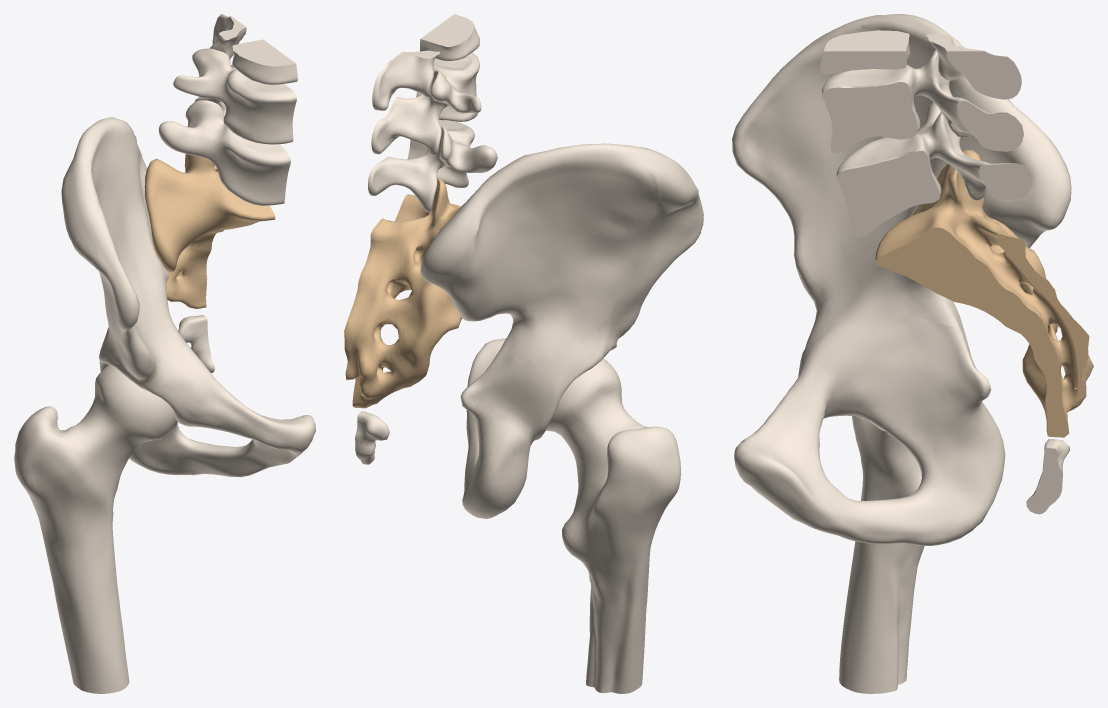
The model's file is open3d-inguinal-canal-skeletal-01.glb.
The picture shows the model from 3 angles, left to right: view 1: azimuth 30°, elevation 25°; view 2: azimuth 150°, elevation 25°; view 3: azimuth 270°, elevation 25°; orthographic projection. The views are drawn at different scales.
Visible parts, largest first — view 1: O3D_ce4f6def83cb31, O3D_1879cf3a3f5bd7, O3D_308d1ef49a43fa, O3D_312571b6107a85, O3D_7b38526d7bd437, O3D_8cefbc10a52f4f, O3D_466b33d84c1aa0, O3D_f54bb8582221e2; view 2: O3D_312571b6107a85, O3D_ce4f6def83cb31, O3D_1879cf3a3f5bd7, O3D_308d1ef49a43fa, O3D_8cefbc10a52f4f, O3D_7b38526d7bd437, O3D_466b33d84c1aa0, O3D_f54bb8582221e2; view 3: O3D_1879cf3a3f5bd7, O3D_308d1ef49a43fa, O3D_312571b6107a85, O3D_ce4f6def83cb31, O3D_7b38526d7bd437, O3D_8cefbc10a52f4f, O3D_466b33d84c1aa0, O3D_f54bb8582221e2.
Boxes of the visible parts, x1,y1,x2,y2 form: O3D_ce4f6def83cb31: [14, 365, 176, 693]; O3D_1879cf3a3f5bd7: [61, 164, 315, 477]; O3D_308d1ef49a43fa: [144, 154, 275, 308]; O3D_312571b6107a85: [61, 117, 175, 334]; O3D_7b38526d7bd437: [158, 100, 290, 205]; O3D_8cefbc10a52f4f: [173, 48, 296, 144]; O3D_466b33d84c1aa0: [210, 14, 297, 84]; O3D_f54bb8582221e2: [178, 315, 214, 373]; O3D_312571b6107a85: [420, 143, 658, 360]; O3D_ce4f6def83cb31: [546, 358, 680, 693]; O3D_1879cf3a3f5bd7: [460, 146, 703, 518]; O3D_308d1ef49a43fa: [344, 177, 462, 408]; O3D_8cefbc10a52f4f: [371, 53, 481, 155]; O3D_7b38526d7bd437: [368, 120, 497, 212]; O3D_466b33d84c1aa0: [372, 14, 479, 110]; O3D_f54bb8582221e2: [355, 411, 389, 464]; O3D_1879cf3a3f5bd7: [732, 16, 1005, 545]; O3D_308d1ef49a43fa: [875, 149, 1093, 437]; O3D_312571b6107a85: [823, 14, 1071, 326]; O3D_ce4f6def83cb31: [839, 416, 924, 693]; O3D_7b38526d7bd437: [836, 101, 1032, 237]; O3D_8cefbc10a52f4f: [821, 50, 1023, 152]; O3D_466b33d84c1aa0: [820, 30, 1021, 99]; O3D_f54bb8582221e2: [1026, 439, 1069, 514].
Bounding box in the file's own units: 0.1482 × 0.3381 × 0.151.
